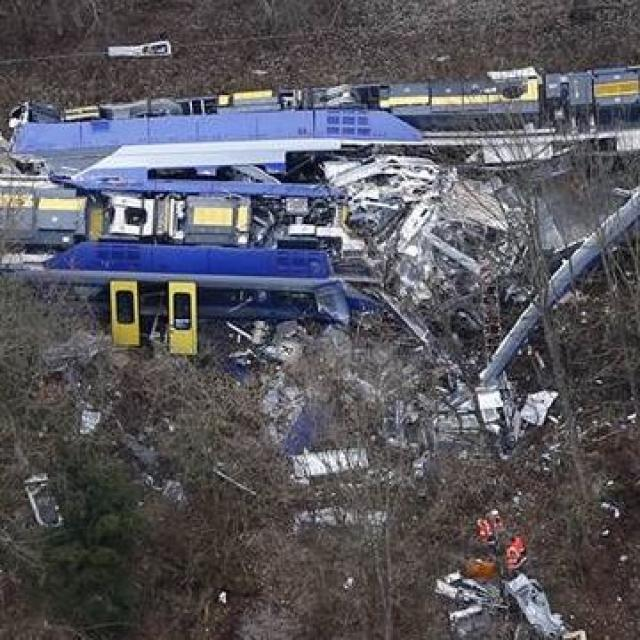traffic_incident: (11, 92, 626, 490)
